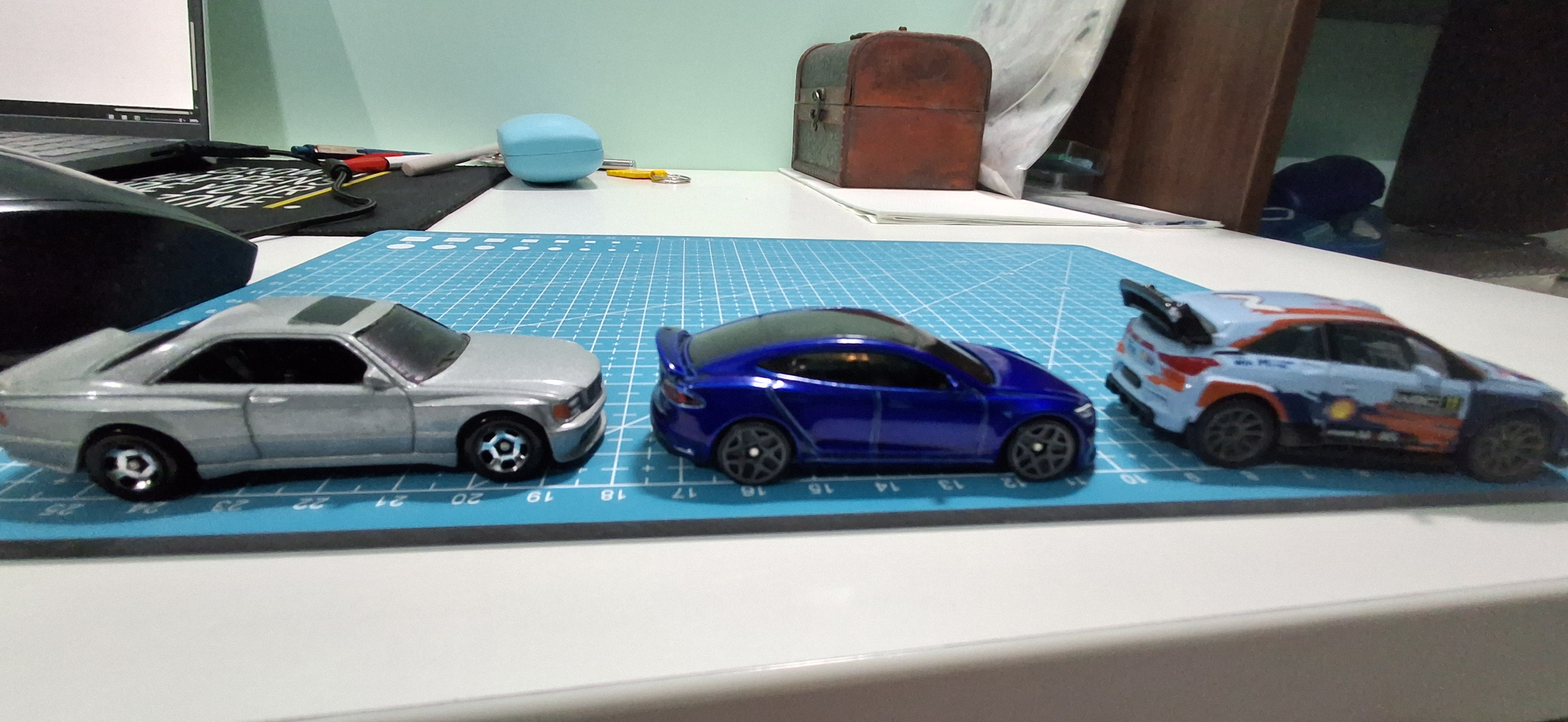Hyundai_I20_WRC: (1105, 247, 1568, 537)
Mercedes_Benz_560_SEC_AMG: (0, 254, 607, 559)
Tesla_Model_S_Plaid: (630, 252, 1103, 546)
